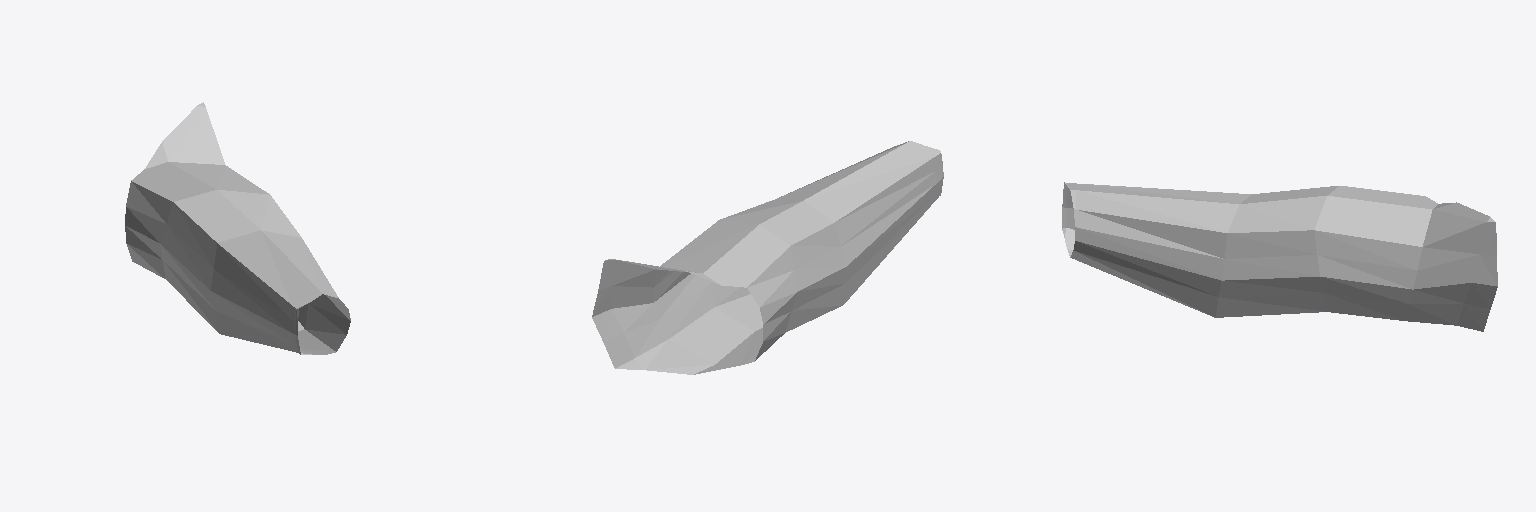
File: Forearm.obj
3 views of the same model, side by side, from view 1: azimuth 30°, elevation 25°; view 2: azimuth 150°, elevation 25°; view 3: azimuth 270°, elevation 25° (orthographic).
Parts seen in each view (by area): view 1: Cube.001; view 2: Cube.001; view 3: Cube.001.
Part boxes in pixels (x1,y1,x2,y2): Cube.001: (125,102,350,354); Cube.001: (592,141,943,374); Cube.001: (1062,182,1497,331).
Bounding box in the file's own units: 1.38 × 1.22 × 3.89.